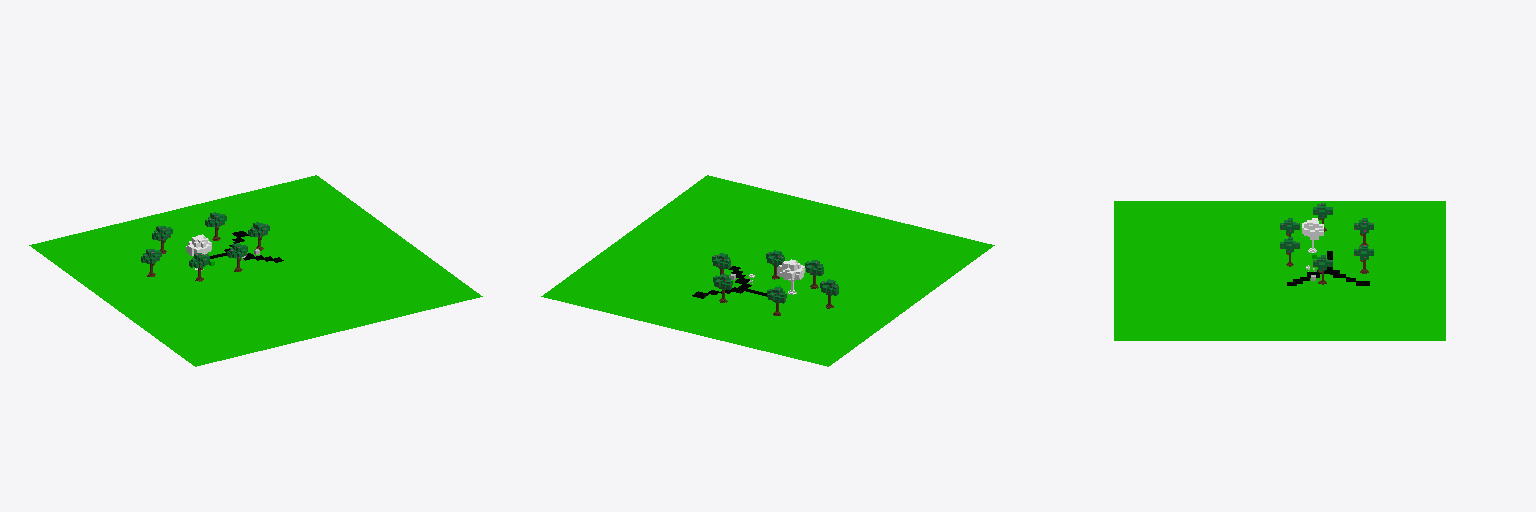
The picture shows the model from 3 angles: view 1: azimuth 30°, elevation 25°; view 2: azimuth 150°, elevation 25°; view 3: azimuth 270°, elevation 25°; orthographic projection.
Visible parts, largest first — view 1: static_terrain_Grid; view 2: static_terrain_Grid; view 3: static_terrain_Grid.
Part boxes in pixels (bbox=[...]): static_terrain_Grid: bbox=[29, 175, 482, 366]; static_terrain_Grid: bbox=[541, 175, 994, 366]; static_terrain_Grid: bbox=[1114, 201, 1445, 340].
Size of the model in its own units: 150 by 15.5 by 150.
15 materials, 1 textured.